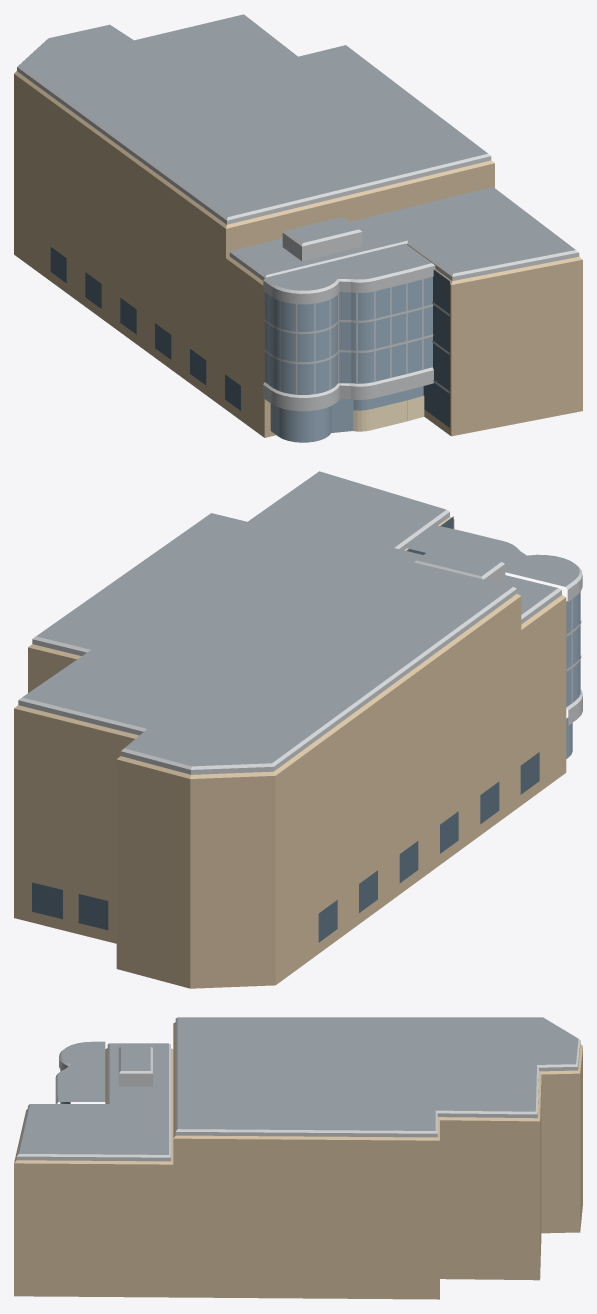
File: knight-theater.glb
The picture shows the model from 3 angles, top to bottom: view 1: azimuth 30°, elevation 25°; view 2: azimuth 150°, elevation 25°; view 3: azimuth 270°, elevation 25°; orthographic projection. The views are drawn at different scales.
Parts seen in each view (by area): view 1: Knight Theater; view 2: Knight Theater; view 3: Knight Theater.
Part boxes in pixels (x1,y1,x2,y2): Knight Theater: (14,14,582,442); Knight Theater: (14,471,582,988); Knight Theater: (14,1017,582,1299).
Bounding box in the file's own units: 41.05 × 27 × 83.6.
